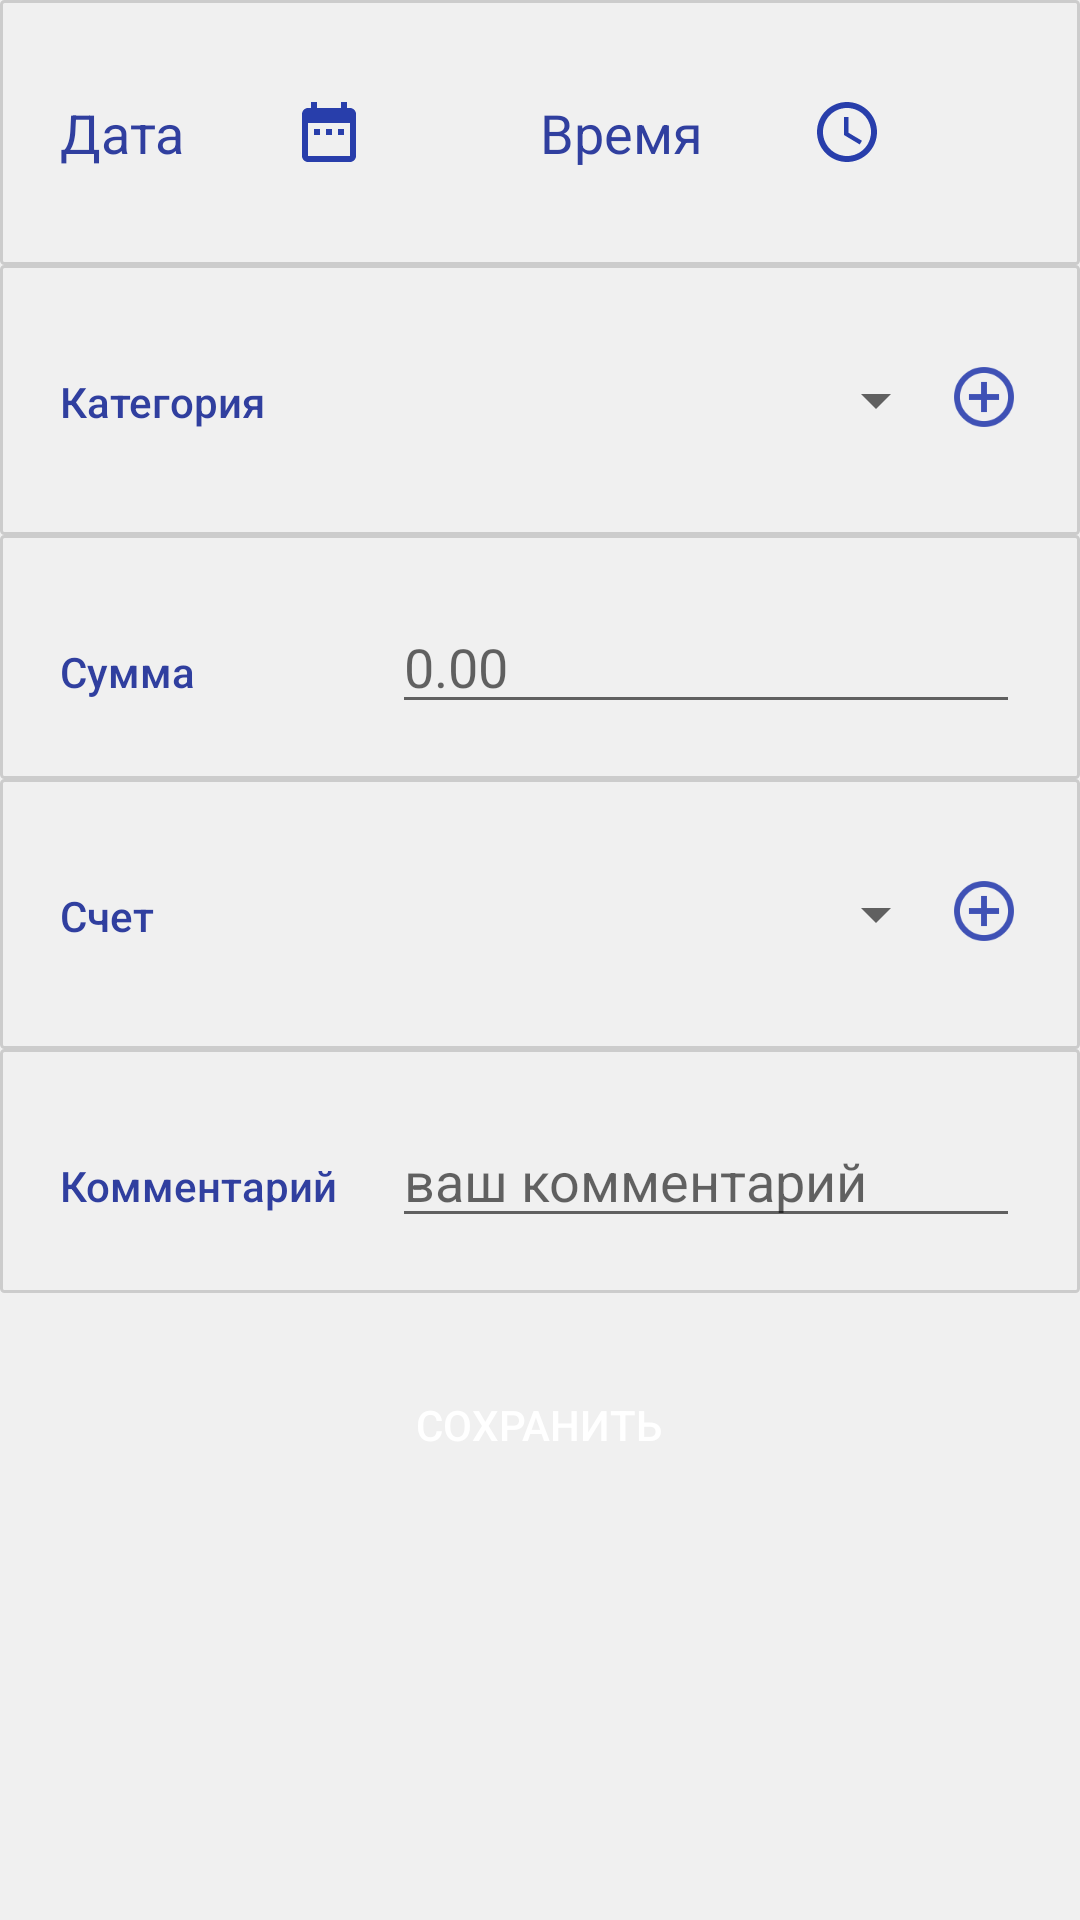

Where icons sit on this 1080px x 1920px app screen, as detection(x1, y1, x2, y2):
access time: detection(817, 102, 877, 162)
add category point: detection(954, 367, 1014, 427), detection(954, 881, 1014, 941)
date range: detection(302, 102, 356, 162)
